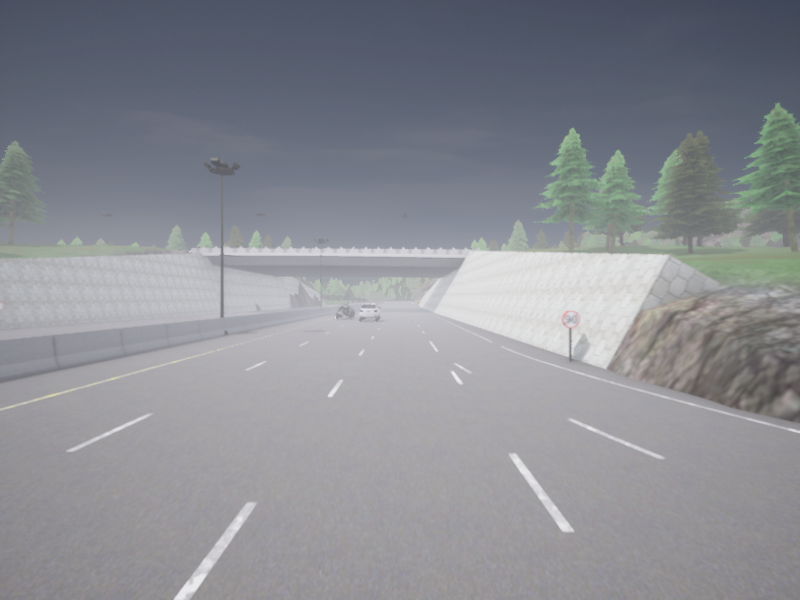vehicle: (360, 303, 380, 320), (336, 304, 354, 318)
